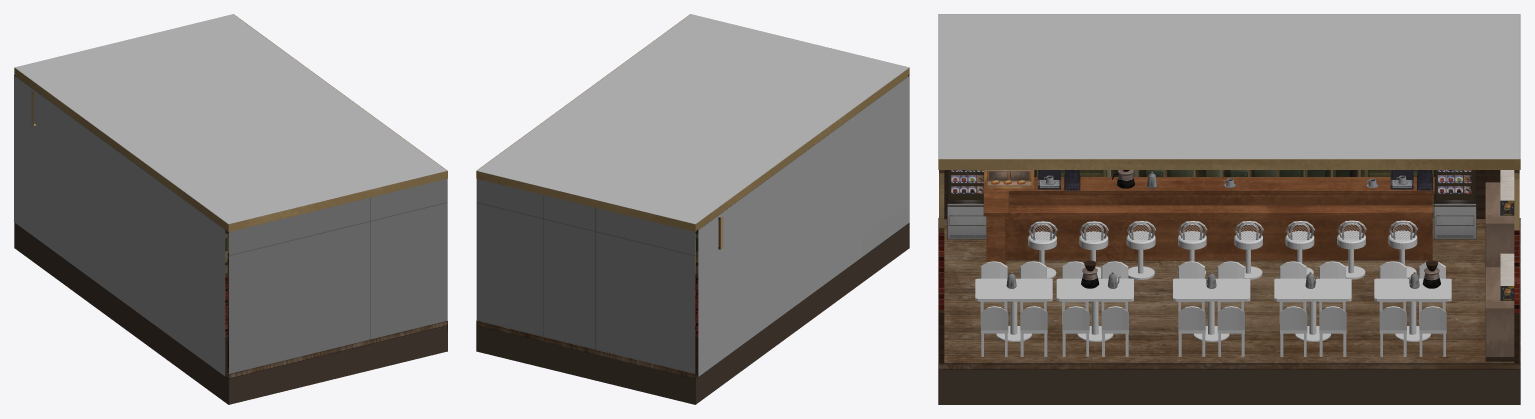
The model's file is coffee shop04.fbx.
3 renders of one model, left to right at view 1: azimuth 30°, elevation 25°; view 2: azimuth 150°, elevation 25°; view 3: azimuth 270°, elevation 25°, orthographic. The views are drawn at different scales.
Visible parts, largest first — view 1: Cube.122, Cube.124, Cube.028, Cube.042; view 2: Cube.122, Cube.124, Cube.052, Cube.042; view 3: Cube.122, Cube.042, Cube.045, Cube.043, Cube.044, Cube.099, Cube.124, Cube.096, Cube.121, Cylinder.094, Cylinder.012, Cylinder.010 (+34 smaller).
Boxes of the visible parts, left/top/right/bottom form: Cube.122: left=14, top=14, right=447, bottom=231; Cube.124: left=14, top=75, right=227, bottom=376; Cube.028: left=227, top=178, right=447, bottom=373; Cube.042: left=14, top=222, right=447, bottom=404; Cube.122: left=476, top=14, right=909, bottom=231; Cube.124: left=696, top=75, right=909, bottom=376; Cube.052: left=476, top=179, right=695, bottom=373; Cube.042: left=476, top=223, right=909, bottom=404; Cube.122: left=938, top=14, right=1520, bottom=169; Cube.042: left=938, top=218, right=1520, bottom=404; Cube.045: left=986, top=194, right=1432, bottom=264; Cube.043: left=983, top=177, right=1435, bottom=216; Cube.044: left=1005, top=205, right=1432, bottom=219; Cube.099: left=1433, top=170, right=1476, bottom=239; Cube.124: left=944, top=170, right=1500, bottom=218; Cube.096: left=947, top=170, right=986, bottom=239; Cube.121: left=1485, top=267, right=1514, bottom=361; Cylinder.094: left=975, top=278, right=1052, bottom=341; Cylinder.012: left=1274, top=278, right=1351, bottom=341; Cylinder.010: left=1173, top=278, right=1250, bottom=341.
Bounding box in the file's own units: 266 × 205 × 441.
